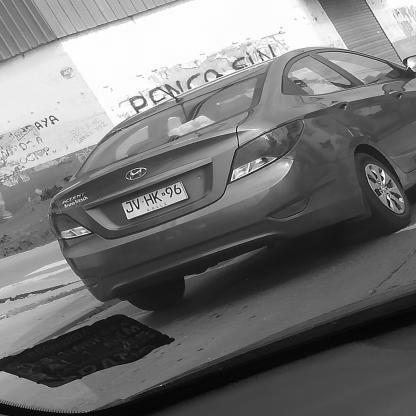Patente: (117, 179, 194, 222)
